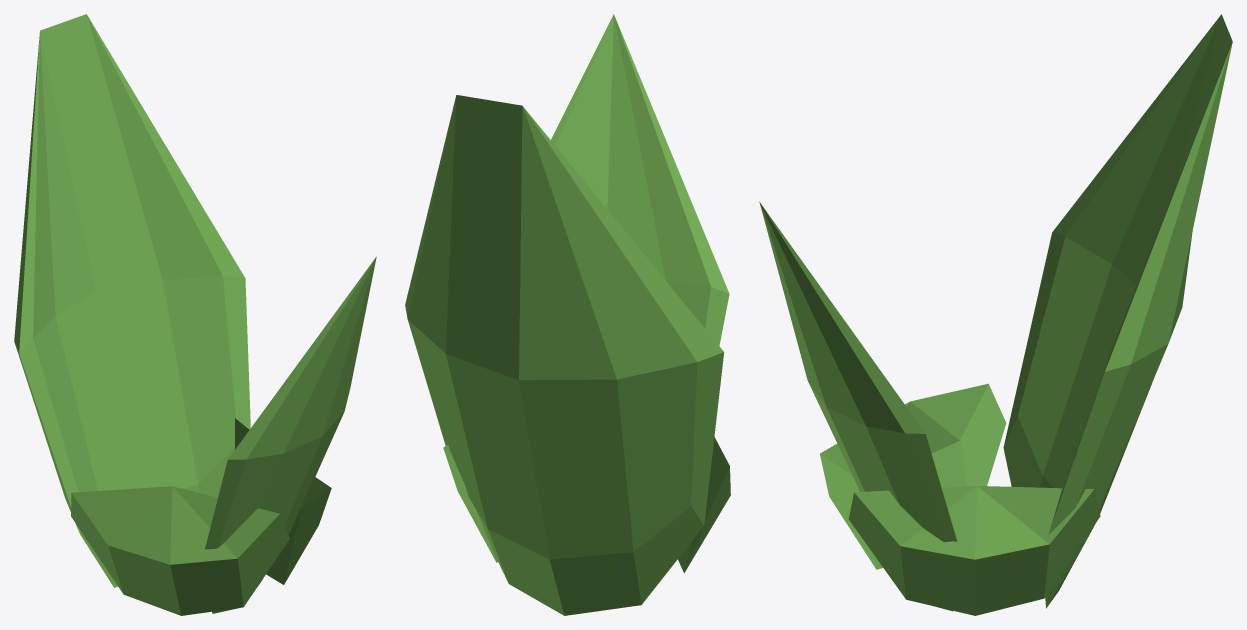
File: seed.fbx
3 renders of one model, left to right at view 1: azimuth 30°, elevation 25°; view 2: azimuth 150°, elevation 25°; view 3: azimuth 270°, elevation 25°, orthographic. The views are drawn at different scales.
Visible parts, largest first — view 1: Grass.014; view 2: Grass.014; view 3: Grass.014.
Part boxes in pixels (x1,y1,x2,y2): Grass.014: (14,14,376,615); Grass.014: (405,14,730,615); Grass.014: (759,14,1232,615).
Bounding box in the file's own units: 15.36 × 27.41 × 21.11.
